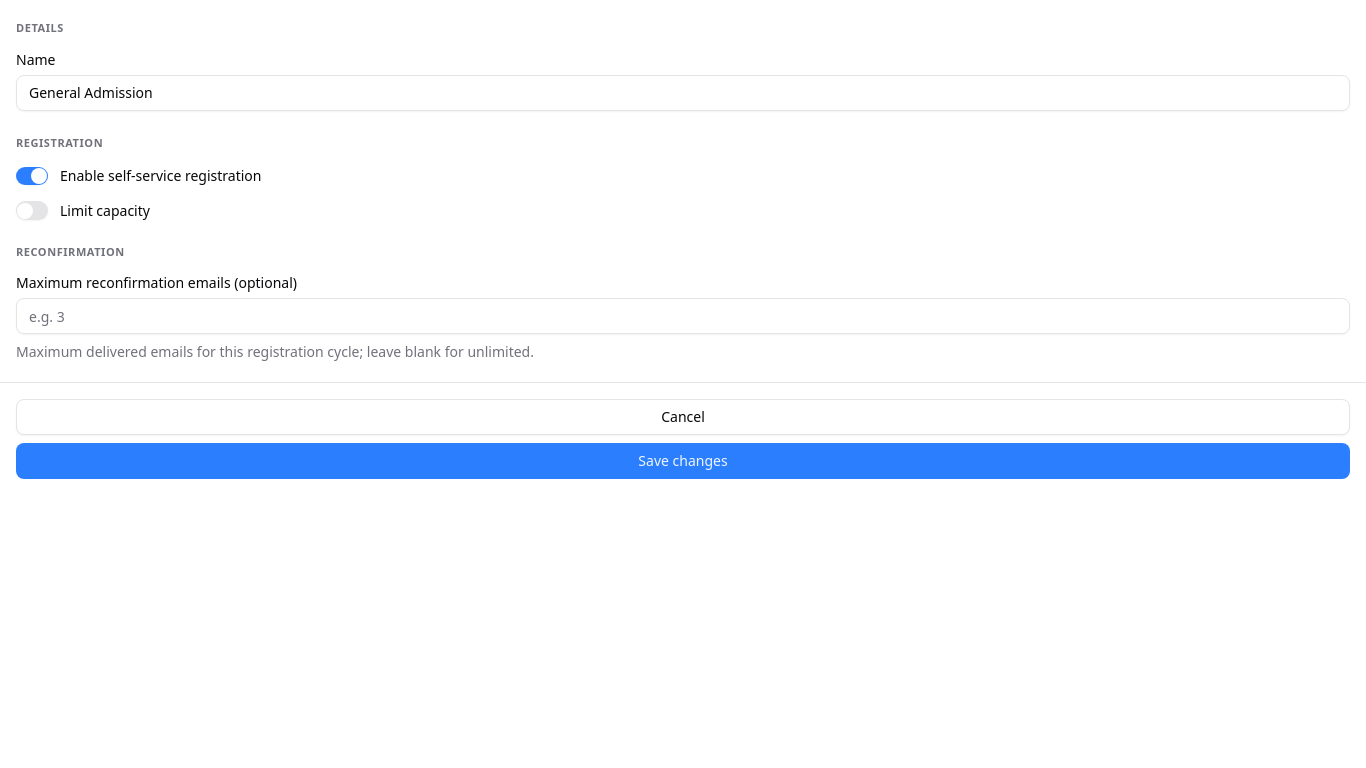
EditTicketTypeForm waitlist cascade › reveals the waitlist toggle once capacity limiting is switched on
Click the switch named "limit capacity" next to "Limit capacity". click: [32, 211]
box: left=16, top=201, right=48, bottom=220
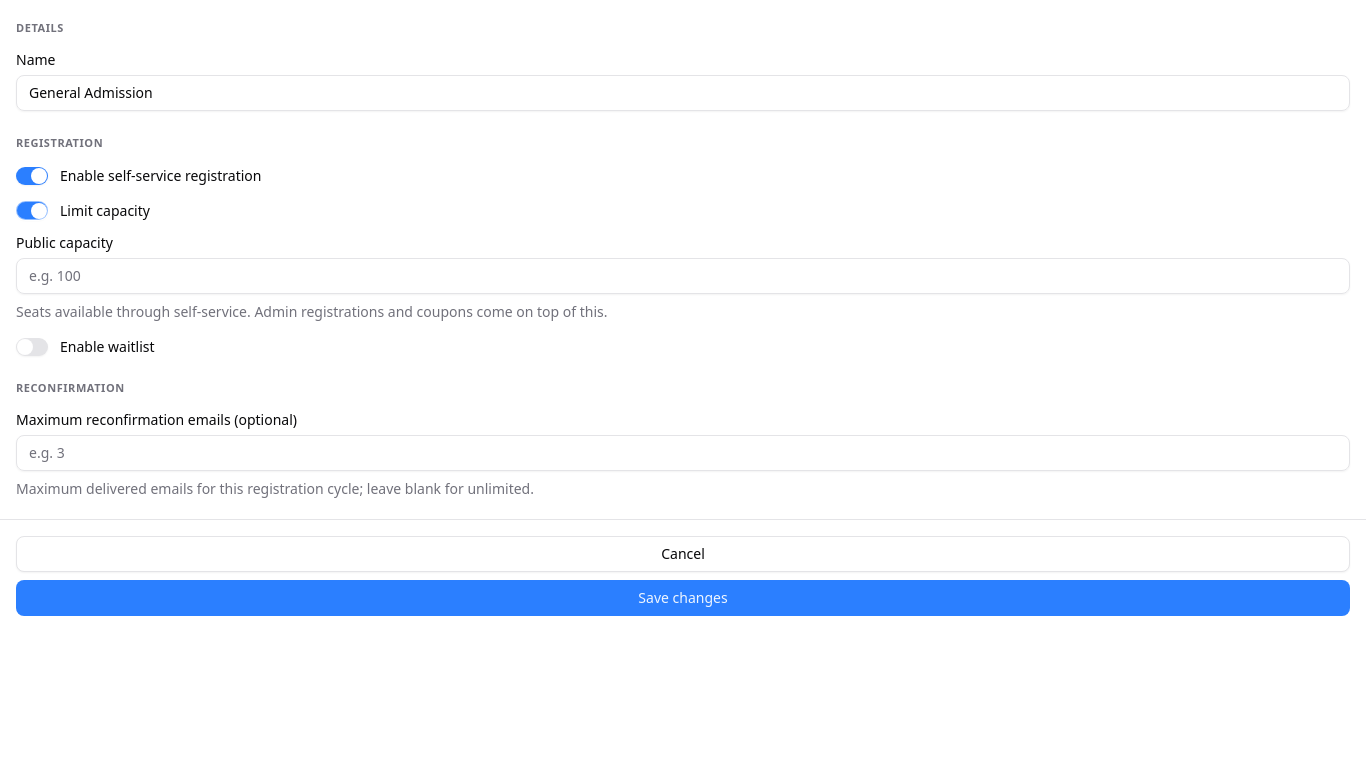
Result: the number field with placeholder "e.g. 100" is shown at left=16, top=258, right=1350, bottom=294
Result: the switch named "enable waitlist" next to "Enable waitlist" is shown
Click the switch named "enable waitlist" next to "Enable waitlist". click: [32, 347]
box: left=16, top=338, right=48, bottom=356
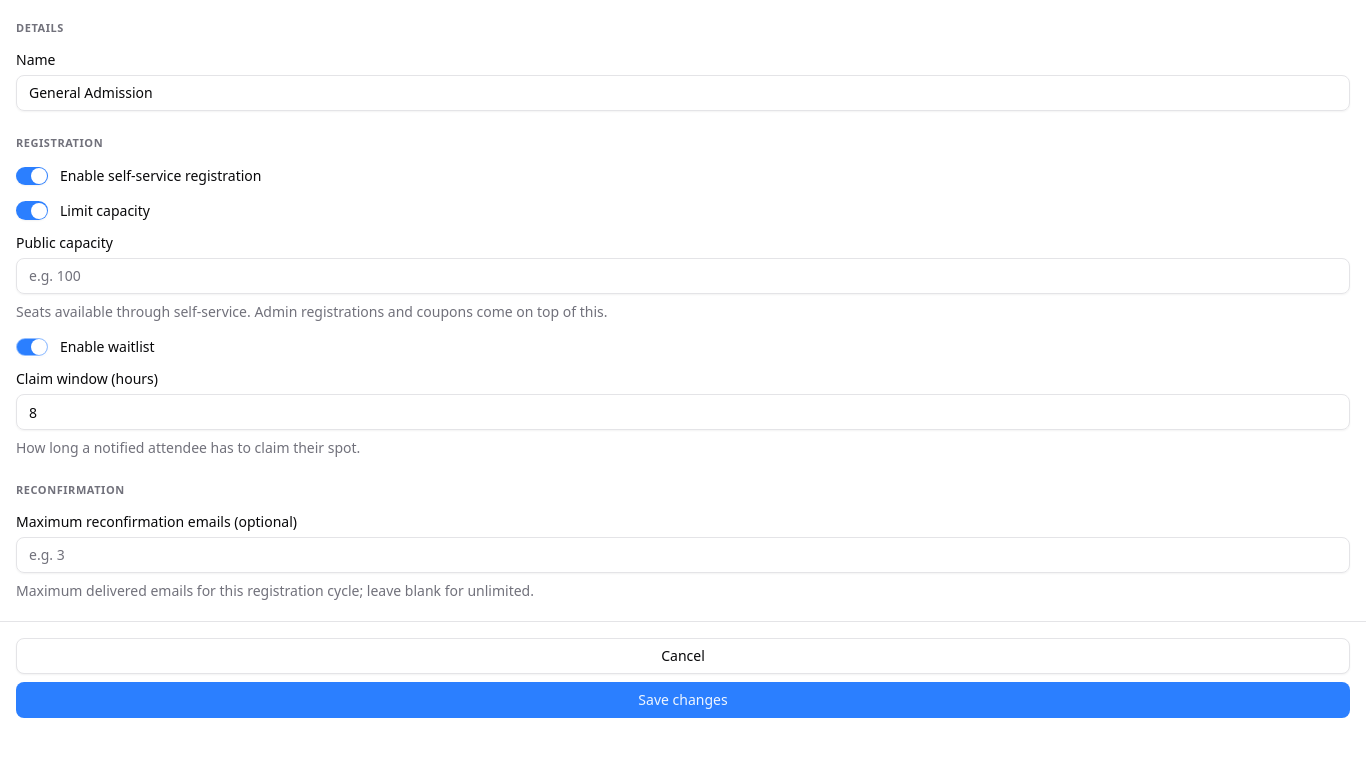
Result: the number field with placeholder "e.g. 8" is shown at left=16, top=394, right=1350, bottom=430
